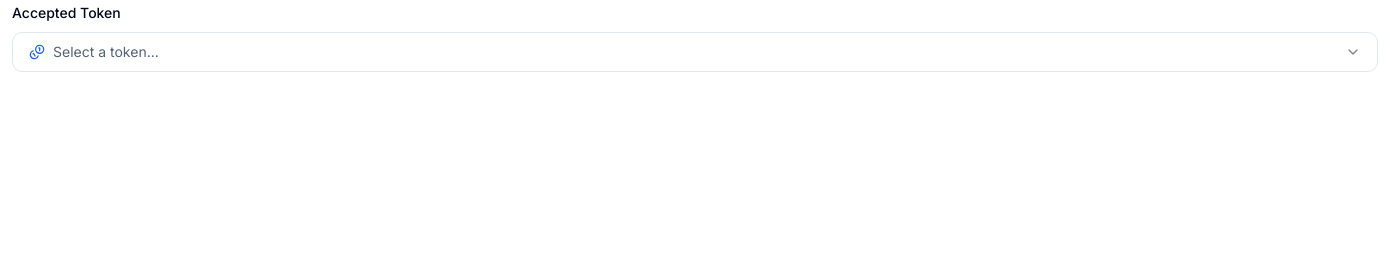
TokenSelector › Available Token List Rendering
The image size is (1390, 272).
Expected: the text "Select a token..." is shown, [53,42,159,62]
Open the dropdown
Click the button "Select a token...": (106, 52) [12,32,1378,72]
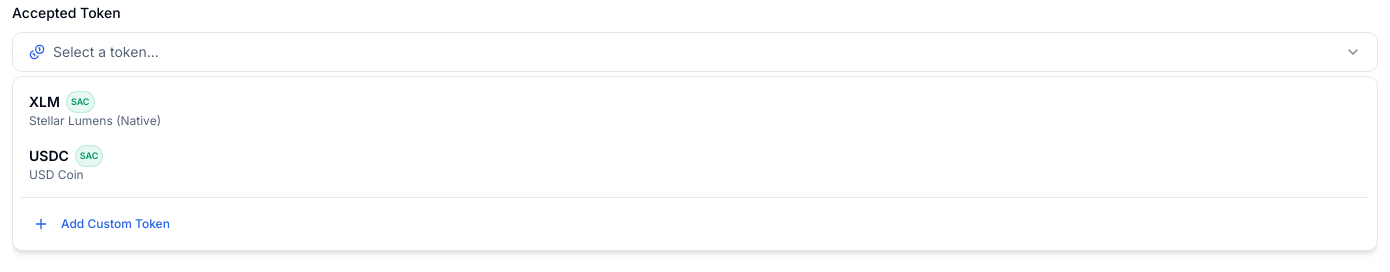
Result: the text "XLM" is shown at [29,92,60,112]
Result: the text "Stellar Lumens (Native)" is shown at [29,113,161,129]
Result: the text "USDC" is shown at [29,146,69,166]
